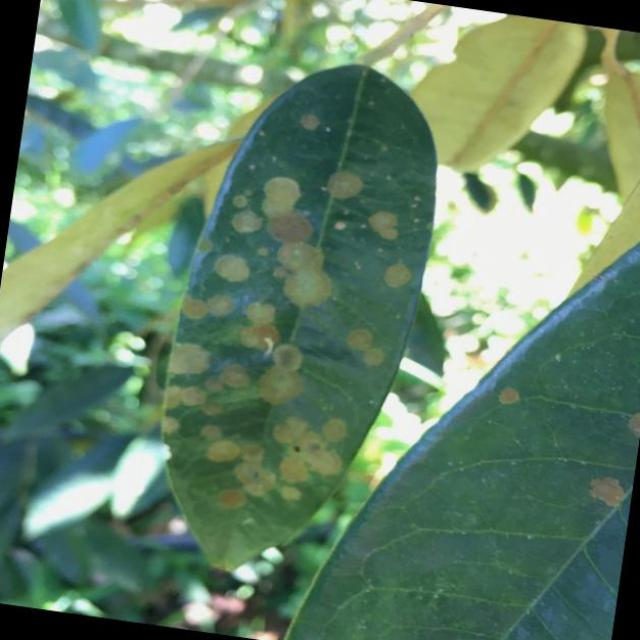Algal Leaf Spot: (133, 34, 462, 608)
